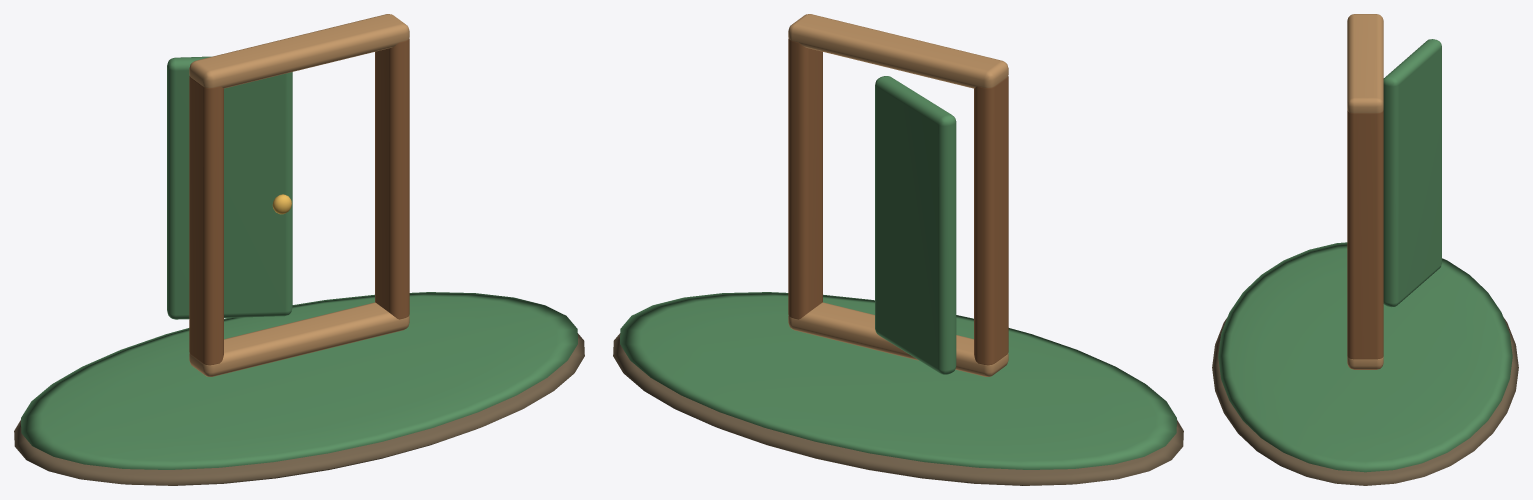
Rendered from doorway.glb.
3 renders of one model, left to right at view 1: azimuth 30°, elevation 25°; view 2: azimuth 150°, elevation 25°; view 3: azimuth 270°, elevation 25°, orthographic. The views are drawn at different scales.
Visible parts, largest first — view 1: doorway_surface_01, doorway_surface_02, doorway_surface_03, doorway_surface_00; view 2: doorway_surface_01, doorway_surface_02, doorway_surface_03, doorway_surface_00; view 3: doorway_surface_01, doorway_surface_02, doorway_surface_00, doorway_surface_03.
Boxes of the visible parts, x1,y1,x2,y2 form: doorway_surface_01: (21, 56, 577, 469); doorway_surface_02: (189, 38, 409, 365); doorway_surface_03: (189, 14, 409, 376); doorway_surface_00: (14, 333, 584, 485); doorway_surface_01: (620, 76, 1176, 469); doorway_surface_02: (788, 38, 1008, 365); doorway_surface_03: (788, 14, 1008, 376); doorway_surface_00: (613, 333, 1183, 485); doorway_surface_01: (1218, 39, 1512, 472); doorway_surface_02: (1347, 110, 1383, 359); doorway_surface_00: (1212, 317, 1518, 485); doorway_surface_03: (1347, 14, 1383, 369).
Size of the model in its own units: 4.56 by 2.93 by 2.5.
